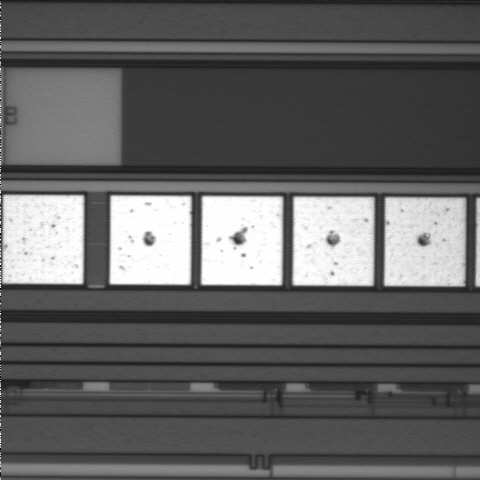pad: (201, 196, 283, 285), (3, 195, 84, 284), (110, 196, 191, 285), (293, 197, 374, 286), (384, 197, 465, 286)
